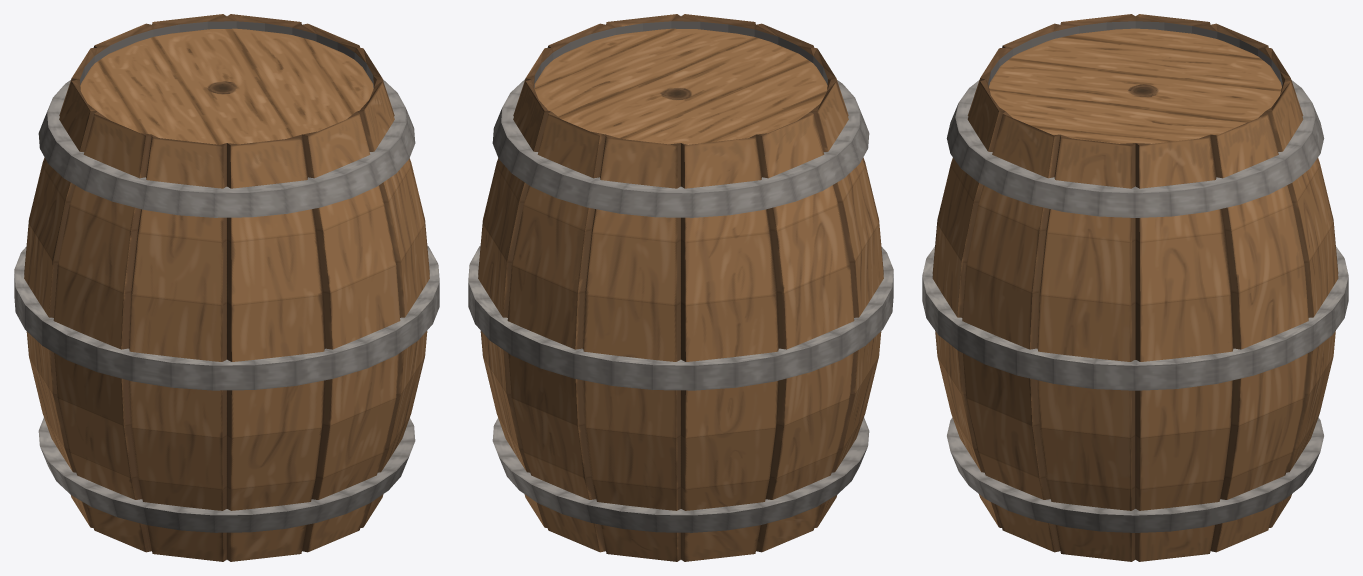
The model's file is Barrel.fbx.
3 views of the same model, side by side, from view 1: azimuth 30°, elevation 25°; view 2: azimuth 150°, elevation 25°; view 3: azimuth 270°, elevation 25° (orthographic).
Parts seen in each view (by area): view 1: Cylinder.001; view 2: Cylinder.001; view 3: Cylinder.001.
Boxes of the visible parts, x1,y1,x2,y2 form: Cylinder.001: (14, 14, 439, 561); Cylinder.001: (468, 14, 893, 561); Cylinder.001: (922, 14, 1348, 561).
Size of the model in its own units: 191 by 206 by 191.
